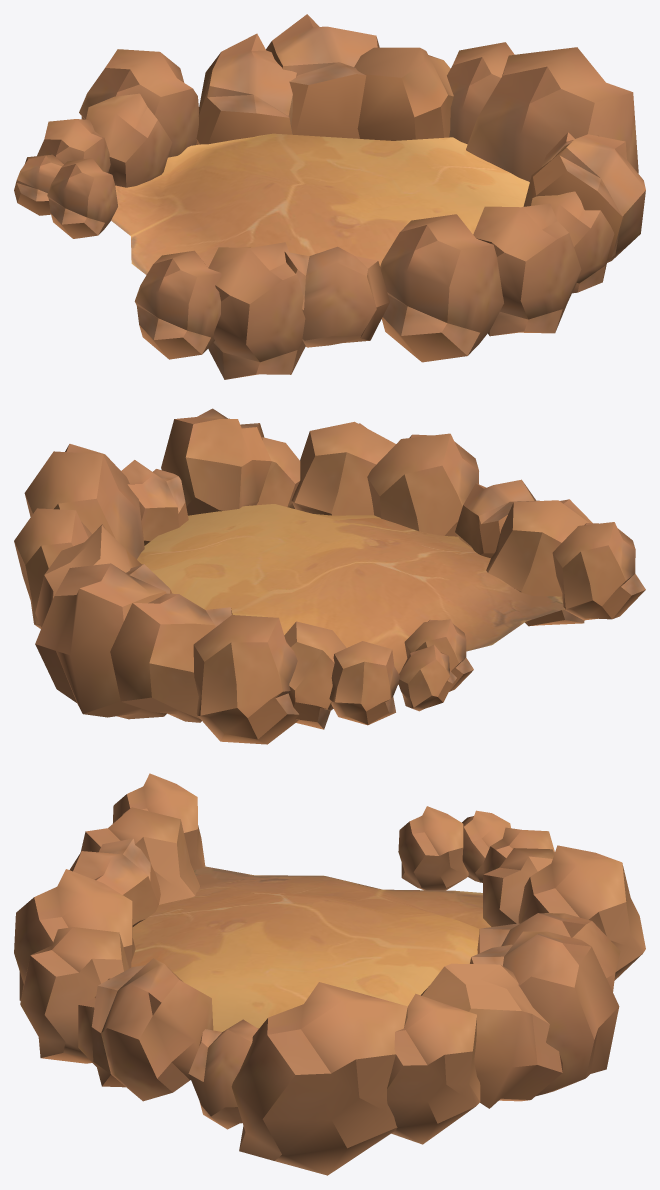
The model's file is Berm.fbx.
3 renders of one model, top to bottom at view 1: azimuth 30°, elevation 25°; view 2: azimuth 150°, elevation 25°; view 3: azimuth 270°, elevation 25°, orthographic. The views are drawn at different scales.
Parts seen in each view (by area): view 1: Berm; view 2: Berm; view 3: Berm.
Boxes of the visible parts, x1,y1,x2,y2 form: Berm: (14,14,645,379); Berm: (14,408,645,744); Berm: (14,773,645,1175).
Size of the model in its own units: 1107 by 351 by 1064.
1 material, 1 textured.
